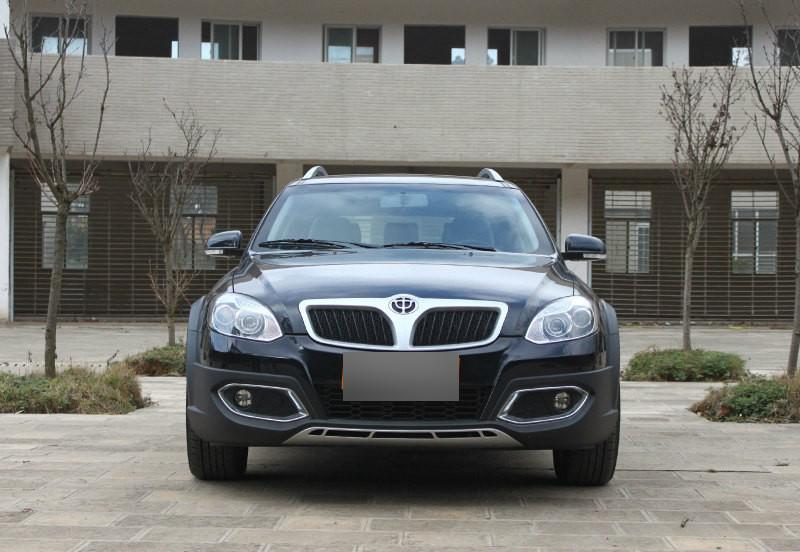Wagon: (184, 165, 621, 487)
